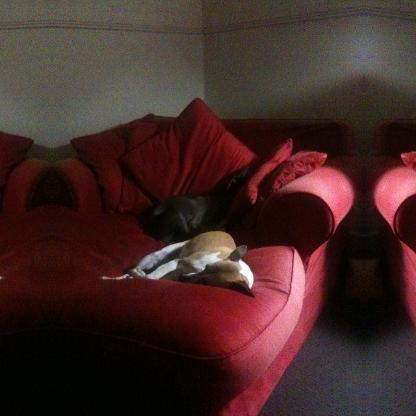Dog: (100, 231, 254, 297), (146, 170, 247, 242)
